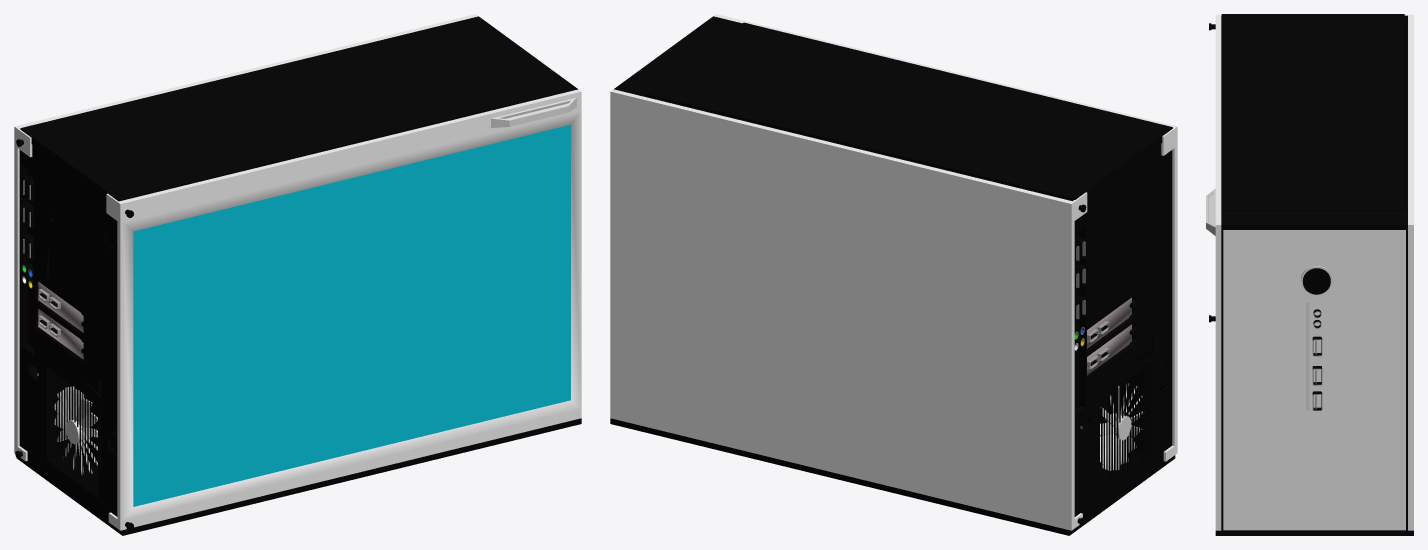
Rendered from case3.fbx.
3 views of the same model, side by side, from view 1: azimuth 30°, elevation 25°; view 2: azimuth 150°, elevation 25°; view 3: azimuth 270°, elevation 25° (orthographic). The views are drawn at different scales.
Visible parts, largest first — view 1: right, Plane, back, power, left, powerfan; view 2: left, Plane, back, power, right, powerfan; view 3: fan, Plane, right, left, USB, powerbutton, back.
Boxes of the visible parts, x1,y1,x2,y2 form: right: (106,89,581,530); Plane: (16,16,581,535); back: (20,169,117,512); power: (21,344,100,499); left: (14,14,478,461); powerfan: (53,386,97,474); left: (610,89,1087,530); Plane: (610,16,1175,535); back: (1074,164,1170,455); power: (1074,359,1151,512); right: (713,14,1177,461); powerfan: (1100,383,1142,470); fan: (1223,230,1405,530); Plane: (1215,14,1413,535); right: (1206,14,1221,530); left: (1404,14,1413,530); USB: (1300,266,1332,411); powerbutton: (1302,268,1330,294); back: (1404,52,1405,210).
Size of the model in its own units: 25.64 by 17.37 by 10.48.
